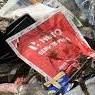garbage: (2, 2, 94, 95)
